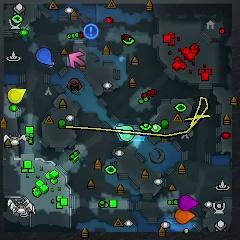Other: (83, 23, 99, 39)
p1: (36, 48, 52, 65)
p2: (115, 125, 135, 141)
p3: (178, 194, 198, 212)
p4: (8, 88, 26, 103)
p5: (175, 208, 195, 224)
x1: (69, 51, 85, 67)
